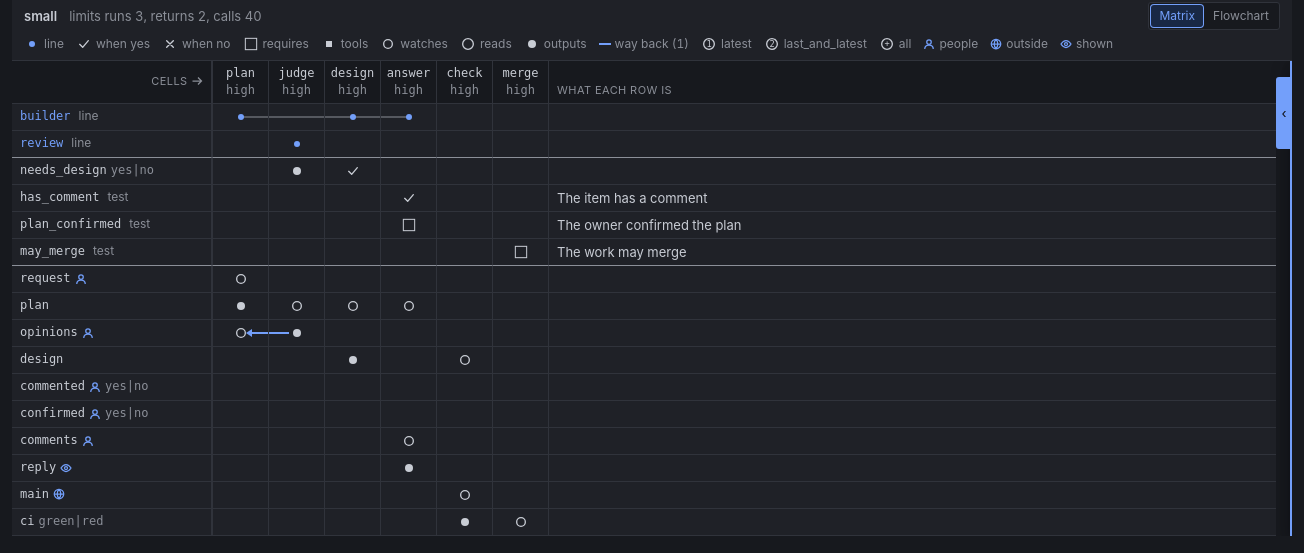
Scenario: the chart › shows everything about a cell chosen by its column’s head, and about a block chosen from it
The width and height of the screenshot is (1304, 553).
Later steps or results of the test are not shown.
What coordinates should you click on to do the following:
click the button "Matrix"
I would click on:
 (1177, 16)
Its box is [1152, 5, 1203, 27].
What coordinates should you click on to do the following:
click the button with class "head-button" showing "plan high"
I would click on:
 (240, 82)
Its box is [213, 61, 268, 103].
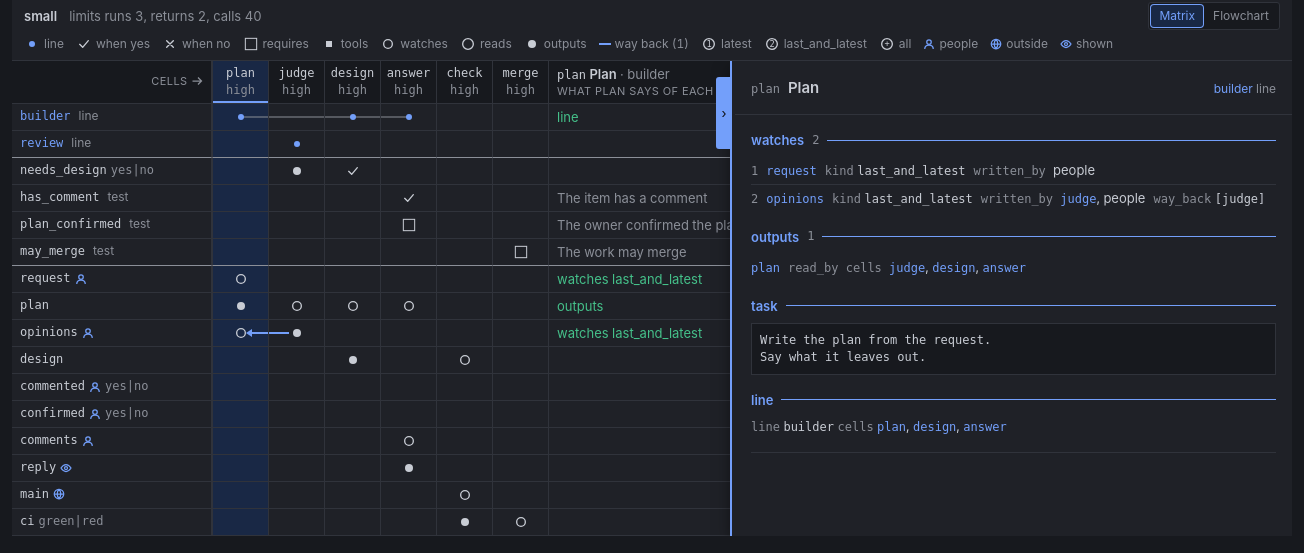
Now the element named "Cell plan" shows "line builder cells plan, design, answer", box [735, 61, 1292, 536]
